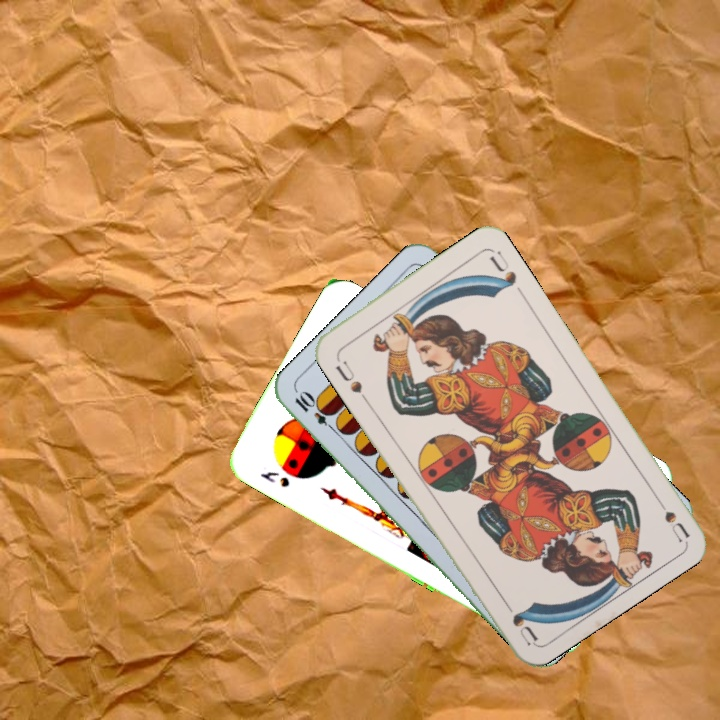E10: (290, 388, 341, 436)
SK: (256, 467, 292, 491)
SU: (649, 489, 692, 544), (331, 351, 370, 404)
